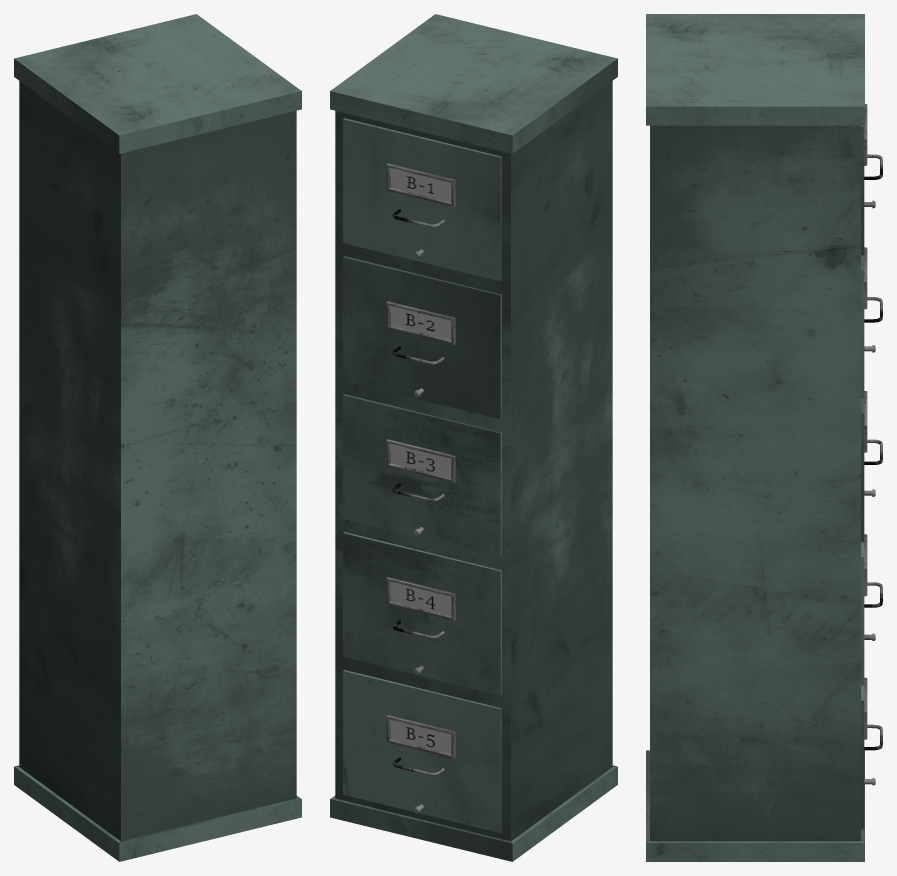
The model's file is Archivador2.fbx.
3 renders of one model, left to right at view 1: azimuth 30°, elevation 25°; view 2: azimuth 150°, elevation 25°; view 3: azimuth 270°, elevation 25°, orthographic. The views are drawn at different scales.
Visible parts, largest first — view 1: OfficeDrawers; view 2: OfficeDrawers; view 3: OfficeDrawers.
Boxes of the visible parts, box(x1,y1,x2,y2) form: OfficeDrawers: box(14, 14, 301, 861); OfficeDrawers: box(330, 14, 617, 861); OfficeDrawers: box(646, 14, 882, 861).
Bounding box in the file's own units: 75.71 × 288 × 81.84.
Materials: 1 (1 with a texture image).
